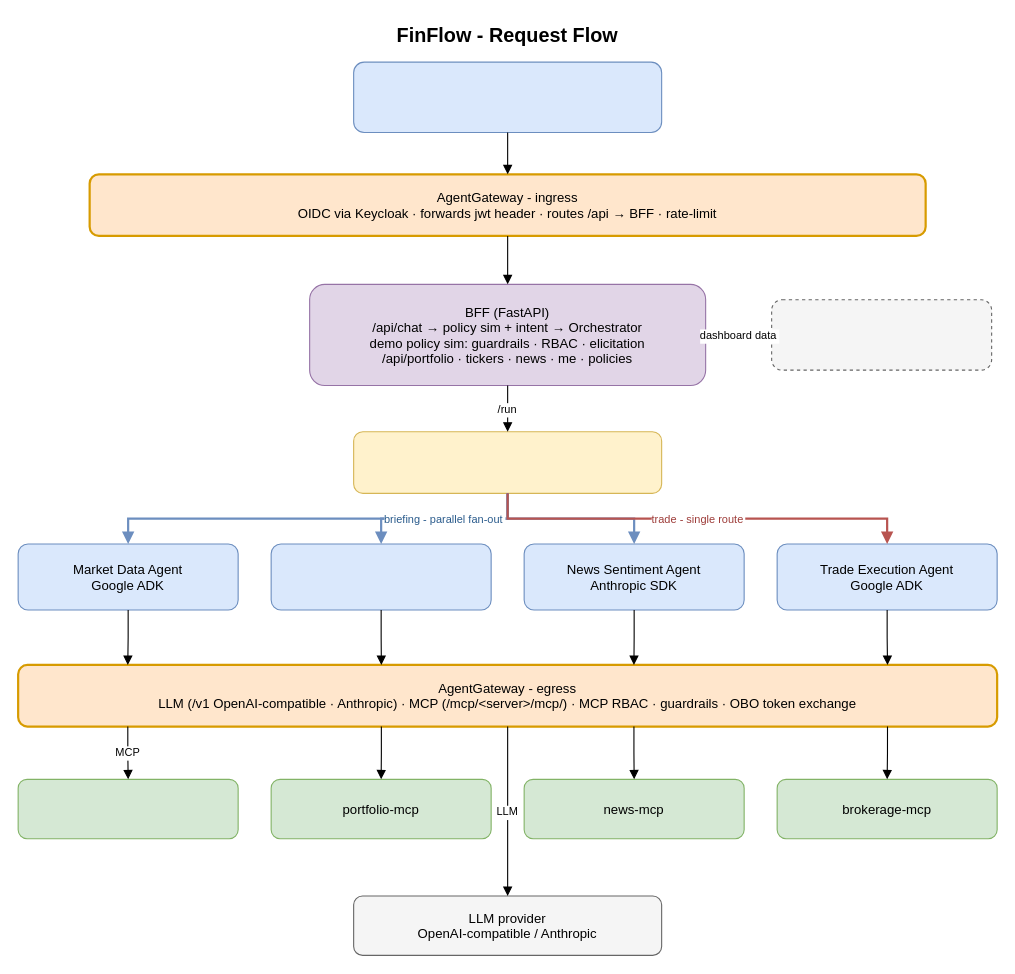
This 1015x974 diagram has some shape labels left out. The centre of each missing label's shape, as x and y in pixels:
"Browser Next.js UI - chat · dashboard policy drawer · trace" goes at [507,97].
"market-data-mcp" goes at [127,808].
"Mock data / SQLite dashboard served locally (no agents)" goes at [881,334].
"Orchestrator custom HTTP dispatcher · intent routing" goes at [507,462].
"Portfolio Agent Google ADK" goes at [380,576].
